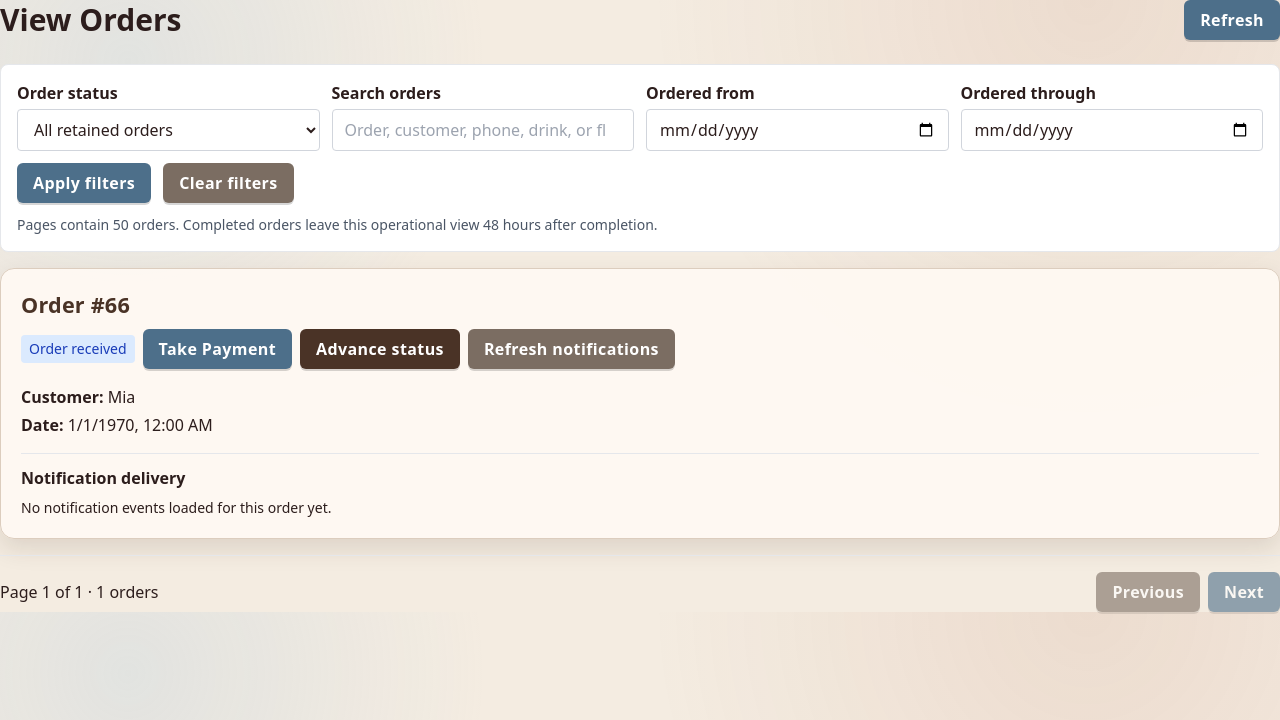
Scenario: provider-neutral in-person Card payments › a paid result for another order is ignored and keeps the current attempt pending
The width and height of the screenshot is (1280, 720).
Click the button "Take Payment".
click(217, 349)  # box [143,329,292,369]
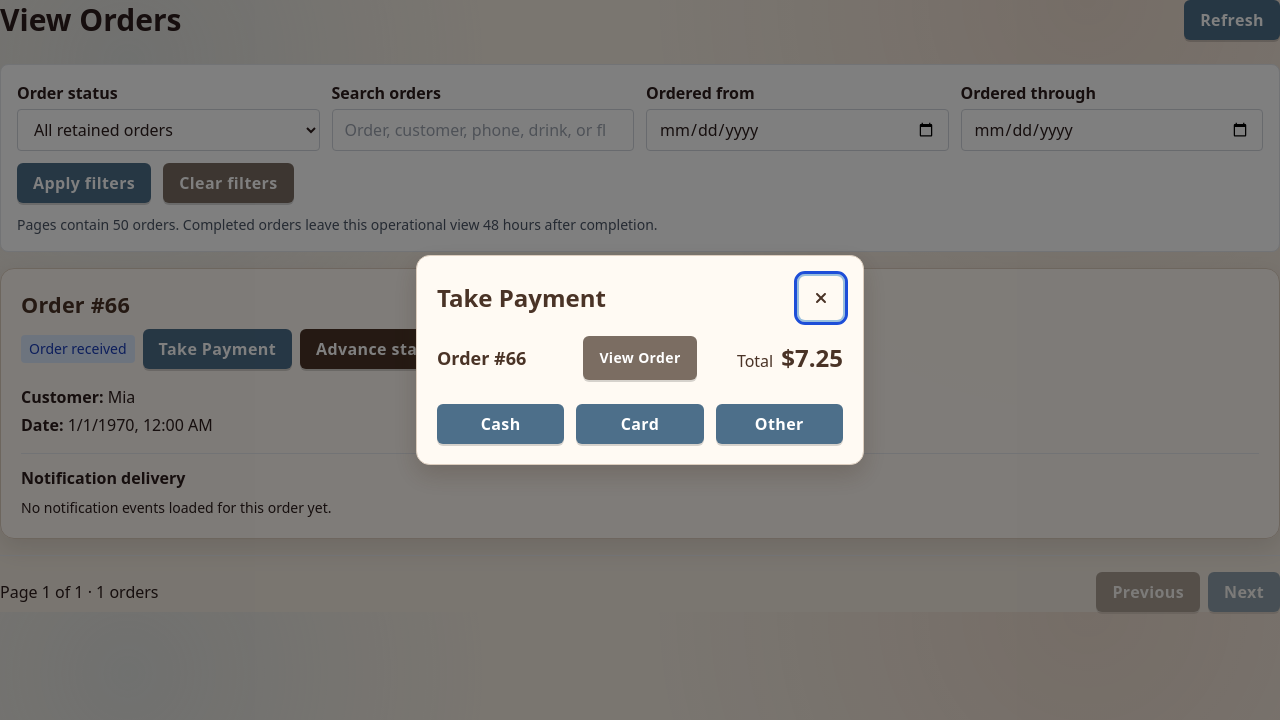
Click the button "Card".
click(640, 424)  # box [576,404,704,444]
Wait 2000 ms
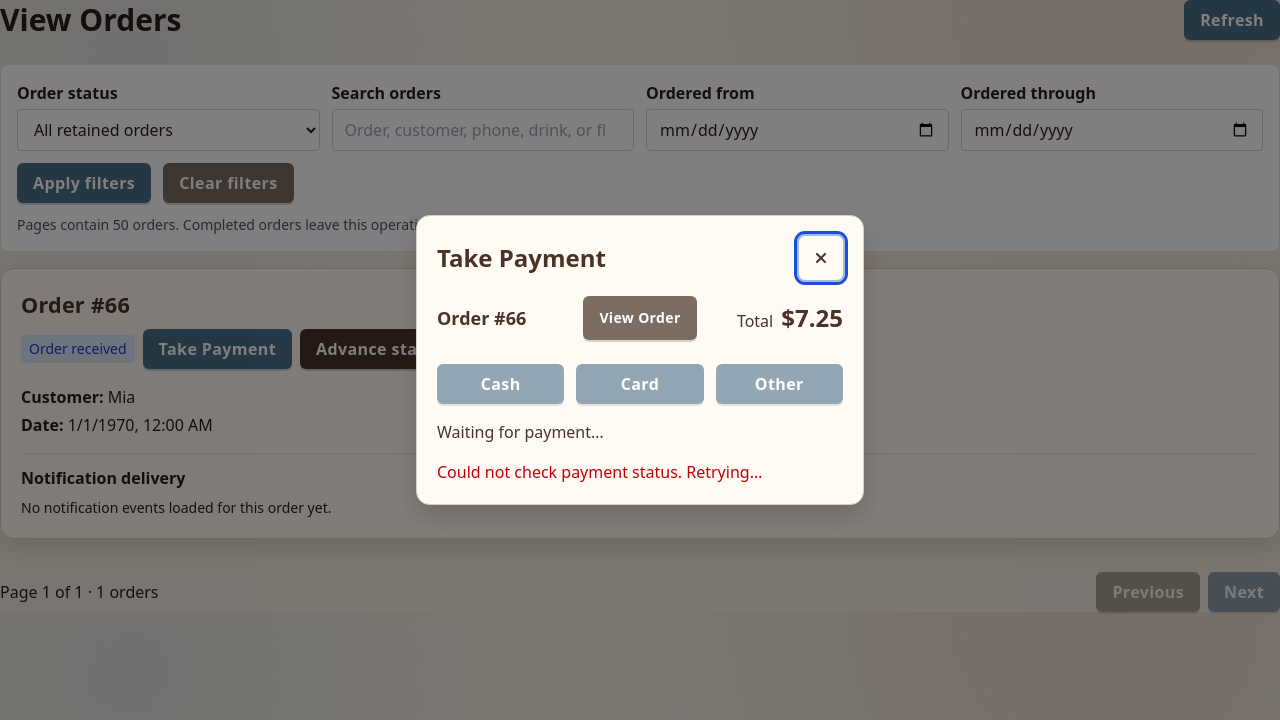
Check: the button "Card" is disabled, box [576,364,704,404]
Check: the message "Could not check payment status. Retrying…" is shown, box [437,461,762,483]
